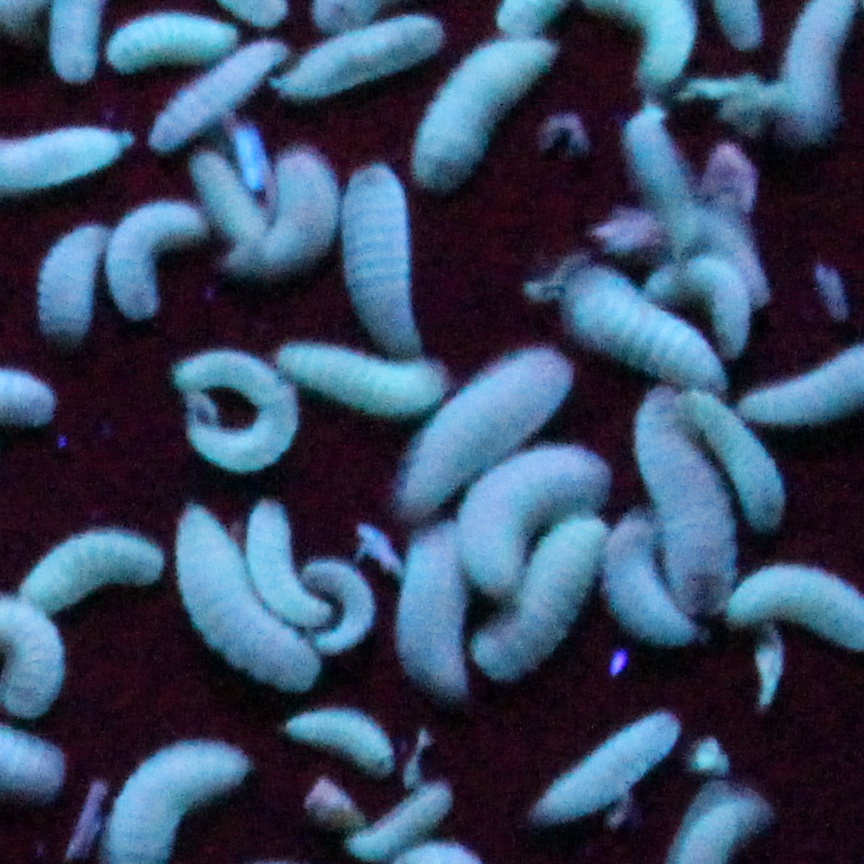larve: (397, 344, 577, 528), (181, 504, 322, 693), (471, 510, 603, 685), (412, 41, 561, 192), (456, 451, 611, 595), (634, 385, 734, 608), (554, 271, 726, 387), (534, 716, 679, 824), (338, 165, 422, 351), (177, 349, 301, 471), (156, 41, 288, 150), (280, 19, 444, 106), (687, 391, 785, 528), (283, 336, 444, 418), (234, 158, 336, 287), (401, 520, 473, 698), (103, 198, 207, 320), (24, 534, 166, 622), (603, 518, 699, 646), (242, 496, 332, 632), (624, 108, 701, 253), (642, 255, 750, 345), (97, 9, 239, 72), (42, 224, 105, 353), (285, 700, 393, 775), (305, 557, 381, 647), (190, 155, 266, 241)
